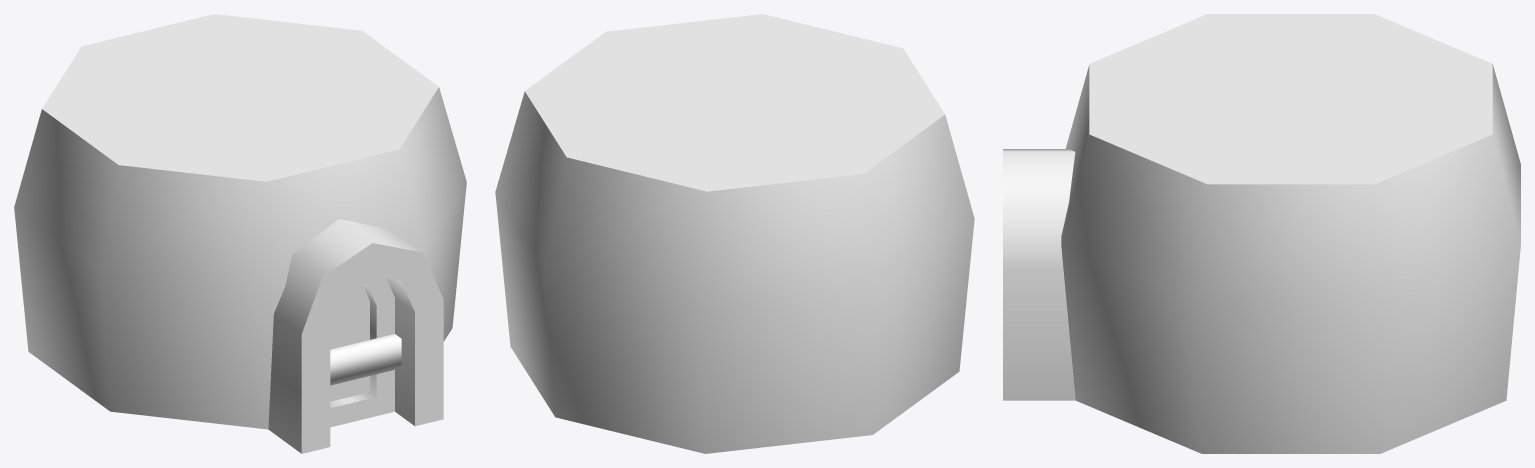
Rendered from tower-base-door.glb.
The picture shows the model from 3 angles, left to right: view 1: azimuth 30°, elevation 25°; view 2: azimuth 150°, elevation 25°; view 3: azimuth 270°, elevation 25°; orthographic projection. The views are drawn at different scales.
Parts seen in each view (by area): view 1: tower-base-door; view 2: tower-base-door; view 3: tower-base-door.
Boxes of the visible parts, x1=… form: tower-base-door: x1=14, y1=14, x2=466, y2=453; tower-base-door: x1=495, y1=14, x2=974, y2=453; tower-base-door: x1=1003, y1=14, x2=1520, y2=453.
Size of the model in its own units: 3.16 by 2 by 3.56.
Materials: 1 (1 with a texture image).
